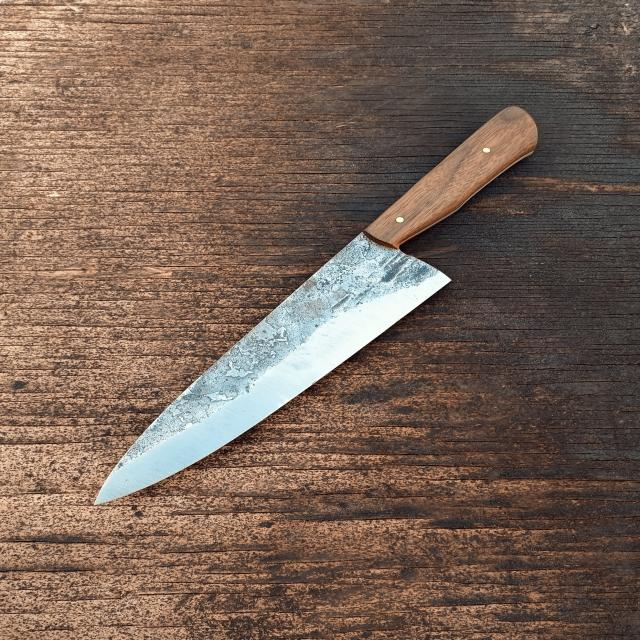Knife: (78, 98, 548, 516)
